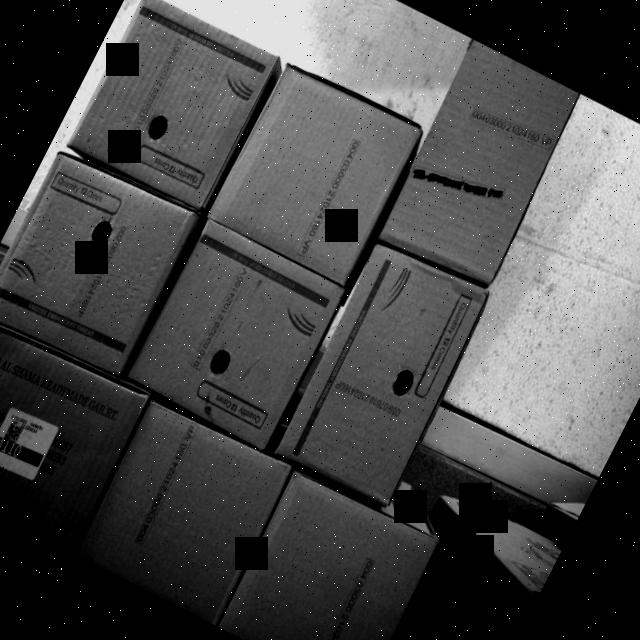box: (270, 246, 496, 514), (375, 40, 588, 294), (122, 227, 344, 458), (208, 61, 425, 292), (75, 404, 292, 626), (63, 0, 281, 213), (0, 152, 198, 381), (215, 465, 441, 640), (0, 313, 147, 550)
